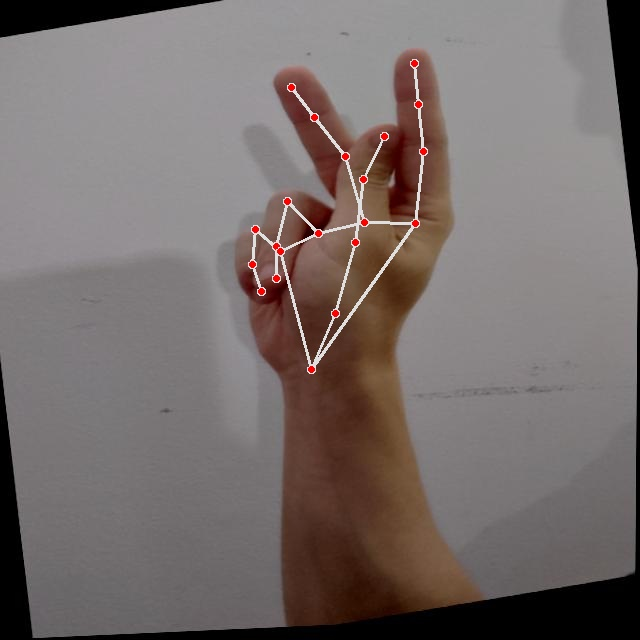K: (199, 32, 487, 389)
